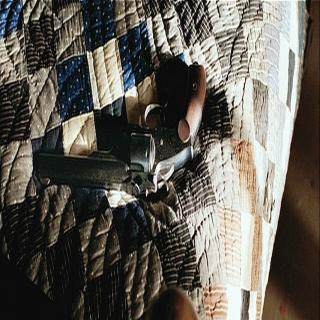gun: (33, 57, 208, 204)
